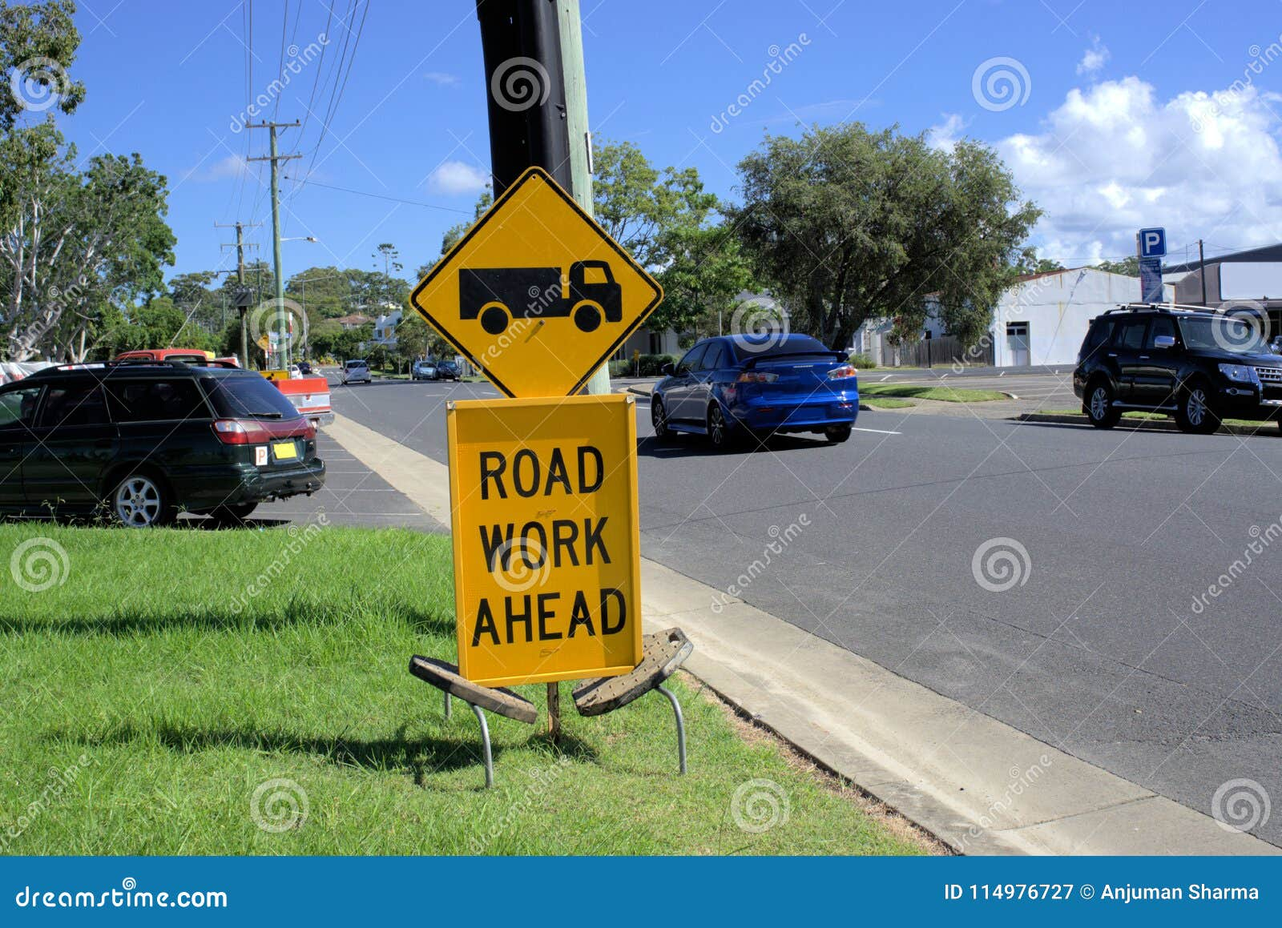Car: (1, 355, 326, 532), (647, 336, 876, 457), (1078, 307, 1282, 440)
Road_workahead: (443, 397, 655, 681)
Tree: (736, 93, 978, 378), (1, 1, 157, 352)
